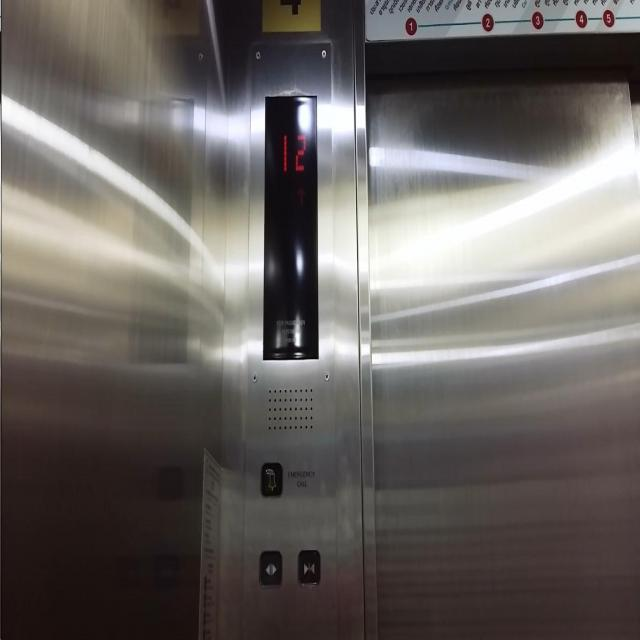alarm: (259, 459, 284, 499)
close: (296, 546, 321, 586)
led: (261, 91, 319, 364)
open: (256, 548, 282, 588)
